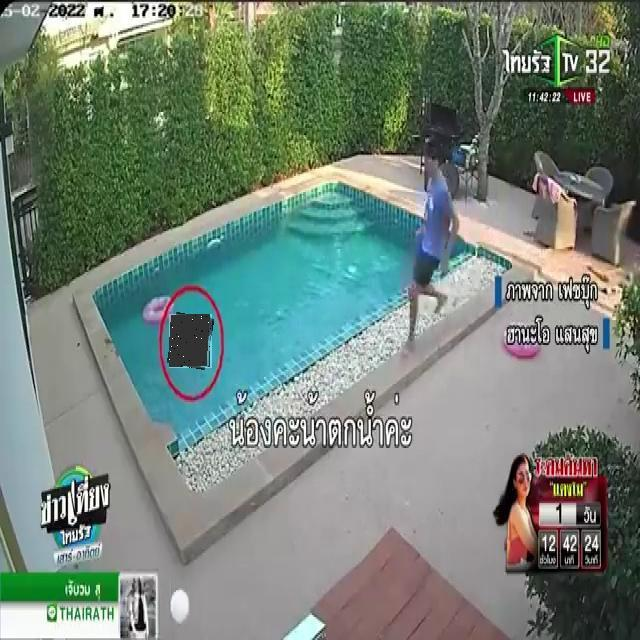Out of Water: (169, 314, 212, 368)
